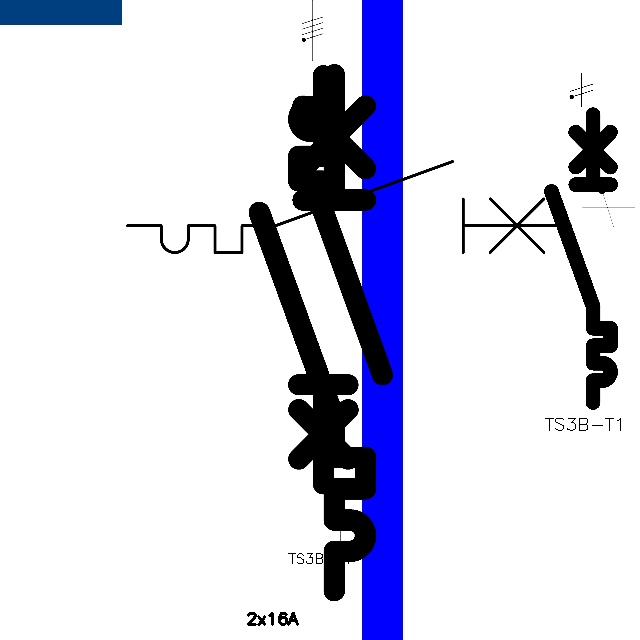interruptor_termomagnetico: (246, 61, 379, 604), (116, 150, 582, 264), (288, 65, 393, 494), (544, 107, 618, 410)
